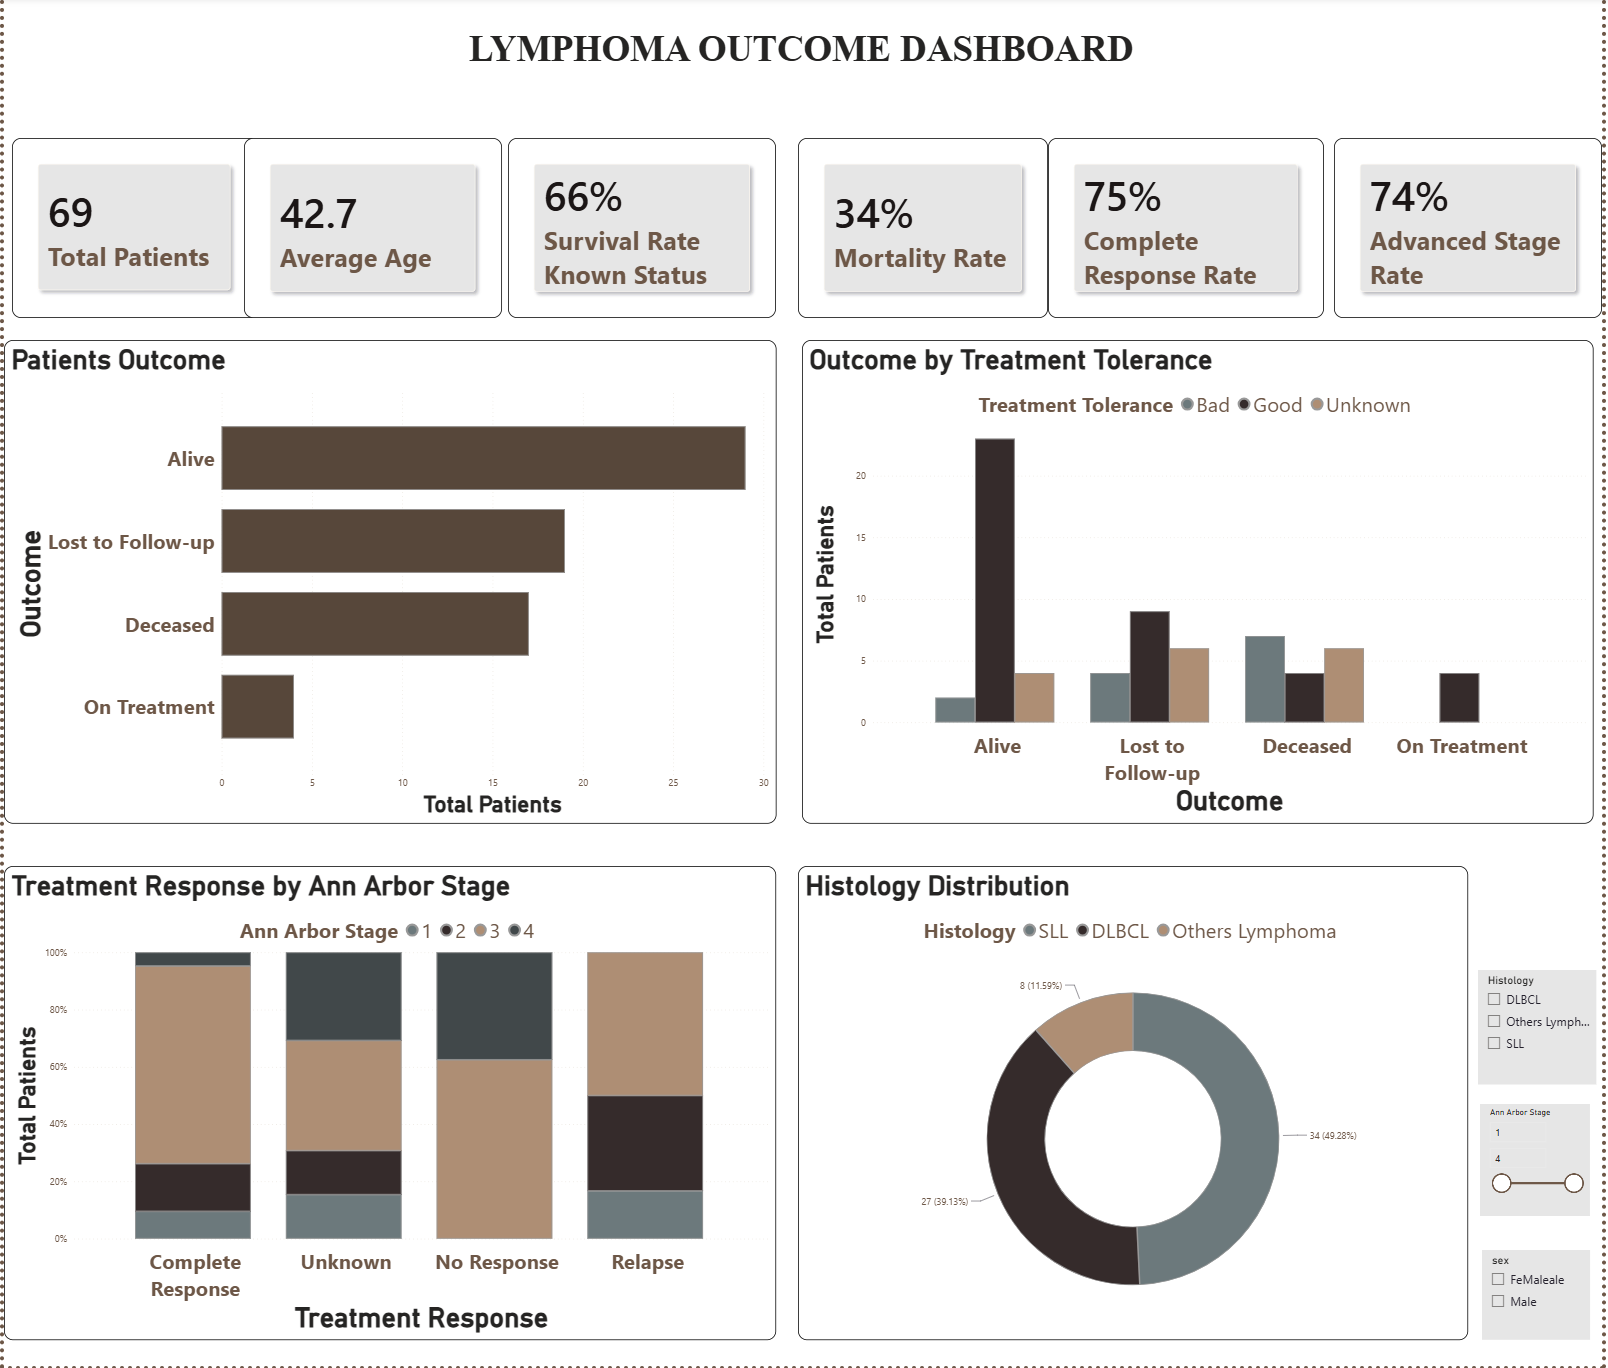

The page's visual inventory and layout, read from the dashboard file:
{"tool":"powerbi","page":{"name":"Page 1","canvas":[2100,1800],"ordinal":0},"visuals":[{"type":"cardVisual","fields":{"Data":["raw_lymphome.Total Patients"]},"box":[10.5,186.6,323.2,236.5],"z":0},{"type":"cardVisual","fields":{"Data":["raw_lymphome.Average Age"]},"box":[315.3,186.6,339,236.5],"z":1},{"type":"cardVisual","fields":{"Data":["raw_lymphome.Survival Rate Known Status"]},"box":[662.2,186.6,352.1,236.5],"z":2},{"type":"cardVisual","fields":{"Data":["raw_lymphome.Mortality Rate"]},"box":[1043.2,186.6,328.5,236.5],"z":3},{"type":"cardVisual","fields":{"Data":["raw_lymphome.Complete Response Rate"]},"box":[1371.7,186.6,362.6,236.5],"z":4},{"type":"cardVisual","fields":{"Data":["raw_lymphome.Advanced Stage Rate"]},"box":[1747.4,186.6,352.1,236.5],"z":5},{"type":"clusteredBarChart","title":"Patients Outcome","fields":{"Category":["raw_lymphome.evolution"],"Y":["raw_lymphome.Total Patients"]},"box":[0,452,1014.8,635.5],"z":6},{"type":"hundredPercentStackedColumnChart","title":"Treatment Response by Ann Arbor Stage ","fields":{"Category":["raw_lymphome.response"],"Series":["raw_lymphome.Ann Arbor Stage"],"Y":["raw_lymphome.Total Patients"]},"box":[0,1143.1,1014.3,622.8],"z":7},{"type":"slicer","fields":{"Values":["raw_lymphome.sex"]},"box":[1941.9,1647.6,141.9,118.2],"z":8},{"type":"slicer","fields":{"Values":["raw_lymphome.histologie"]},"box":[1936.6,1279.7,155.7,150.7],"z":9},{"type":"slicer","fields":{"Values":["raw_lymphome.Ann Arbor Stage"]},"box":[1939.3,1455.8,144.5,147.2],"z":10},{"type":"clusteredColumnChart","title":"Outcome by Treatment Tolerance","fields":{"Series":["raw_lymphome.tolerance"],"Y":["raw_lymphome.Total Patients"],"Category":["raw_lymphome.Outcome"]},"box":[1048.5,452,1040,635.5],"z":11},{"type":"donutChart","title":"Histology Distribution","fields":{"Category":["raw_lymphome.Histology"],"Y":["raw_lymphome.Total Patients"]},"box":[1043.2,1143.1,880.3,622.8],"z":12},{"type":"textbox","box":[10.5,0,2073.3,160.3],"z":13}]}

Visuals, with their boxes in screenshot pixels (x1, y1, x2, y2), scaled from the page's 2100x1800 canvas onto the 1608x1368 screenshot:
cardVisual - raw_lymphome.Total Patients: Rect(8, 142, 256, 322)
cardVisual - raw_lymphome.Average Age: Rect(241, 142, 501, 322)
cardVisual - raw_lymphome.Survival Rate Known Status: Rect(507, 142, 777, 322)
cardVisual - raw_lymphome.Mortality Rate: Rect(799, 142, 1050, 322)
cardVisual - raw_lymphome.Complete Response Rate: Rect(1050, 142, 1328, 322)
cardVisual - raw_lymphome.Advanced Stage Rate: Rect(1338, 142, 1607, 322)
"Patients Outcome" clusteredBarChart: Rect(0, 344, 777, 826)
"Treatment Response by Ann Arbor Stage " hundredPercentStackedColumnChart: Rect(0, 869, 777, 1342)
slicer - raw_lymphome.sex: Rect(1487, 1252, 1596, 1342)
slicer - raw_lymphome.histologie: Rect(1483, 973, 1602, 1087)
slicer - raw_lymphome.Ann Arbor Stage: Rect(1485, 1106, 1596, 1218)
"Outcome by Treatment Tolerance" clusteredColumnChart: Rect(803, 344, 1599, 826)
"Histology Distribution" donutChart: Rect(799, 869, 1473, 1342)
textbox: Rect(8, 0, 1596, 122)
